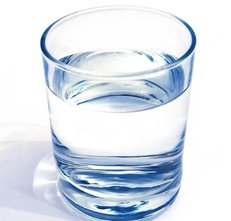glass of water: (63, 40, 179, 214)
